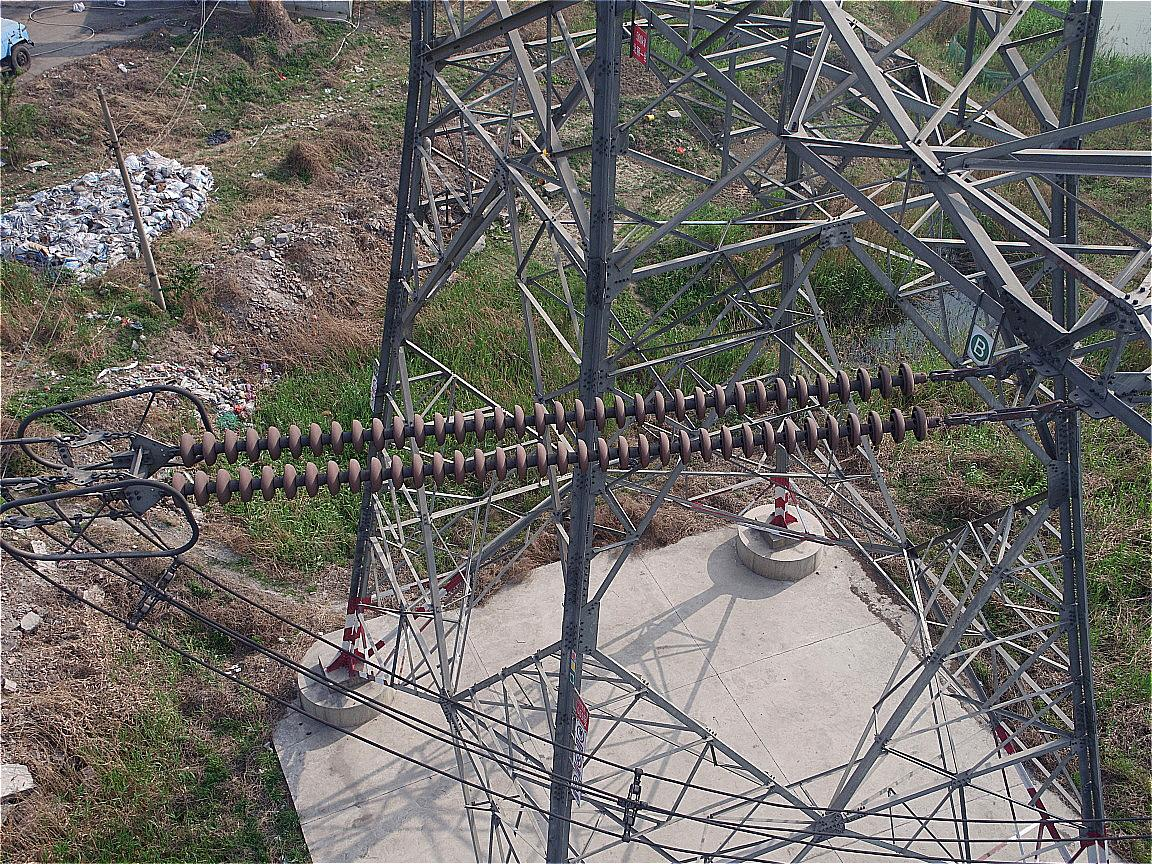insultor1: (147, 353, 947, 512)
